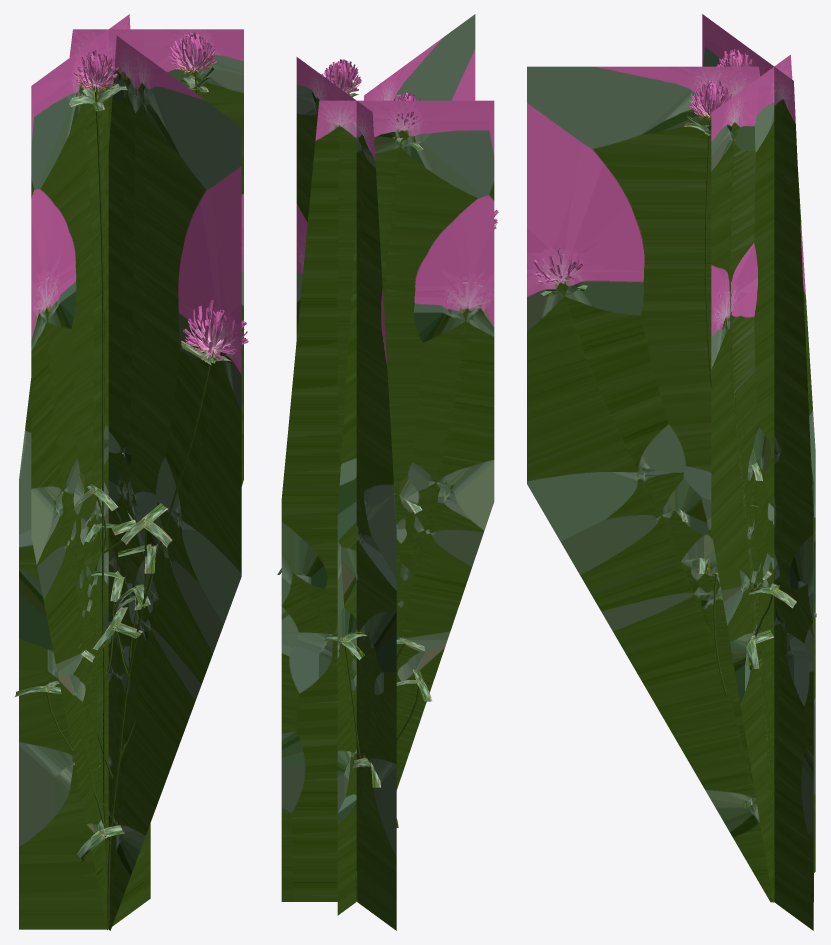
Rendered from PW_Red_Clover_2.fbx.
The picture shows the model from 3 angles, left to right: view 1: azimuth 30°, elevation 25°; view 2: azimuth 150°, elevation 25°; view 3: azimuth 270°, elevation 25°; orthographic projection. The views are drawn at different scales.
Parts seen in each view (by area): view 1: Billboard, LOD0; view 2: Billboard, LOD0; view 3: Billboard, LOD0.
Part boxes in pixels (bbox=[...]): Billboard: bbox=[19, 14, 243, 930]; LOD0: bbox=[14, 32, 248, 929]; Billboard: bbox=[281, 14, 494, 930]; LOD0: bbox=[277, 59, 498, 901]; Billboard: bbox=[527, 14, 815, 930]; LOD0: bbox=[530, 49, 816, 902].
Size of what is drawn, in the model's own units: 12.17 by 48.59 by 15.11.
